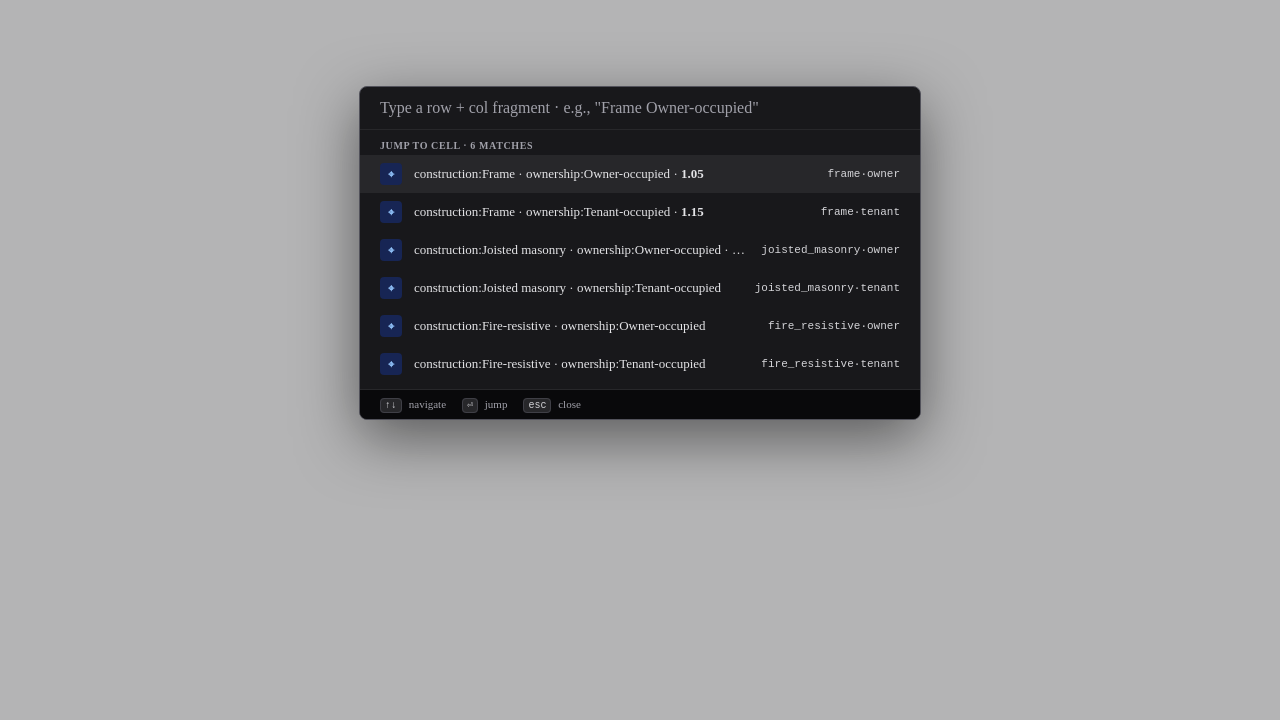
Test case: <FactorTableCmdK> matches › typing row + col fragments narrows to a single cell
This screenshot has width=1280, height=720.
In the field with test id "rater-ft-cmdk-input": {"x": 660, "y": 109} [360,87,960,130], type "joisted owner"
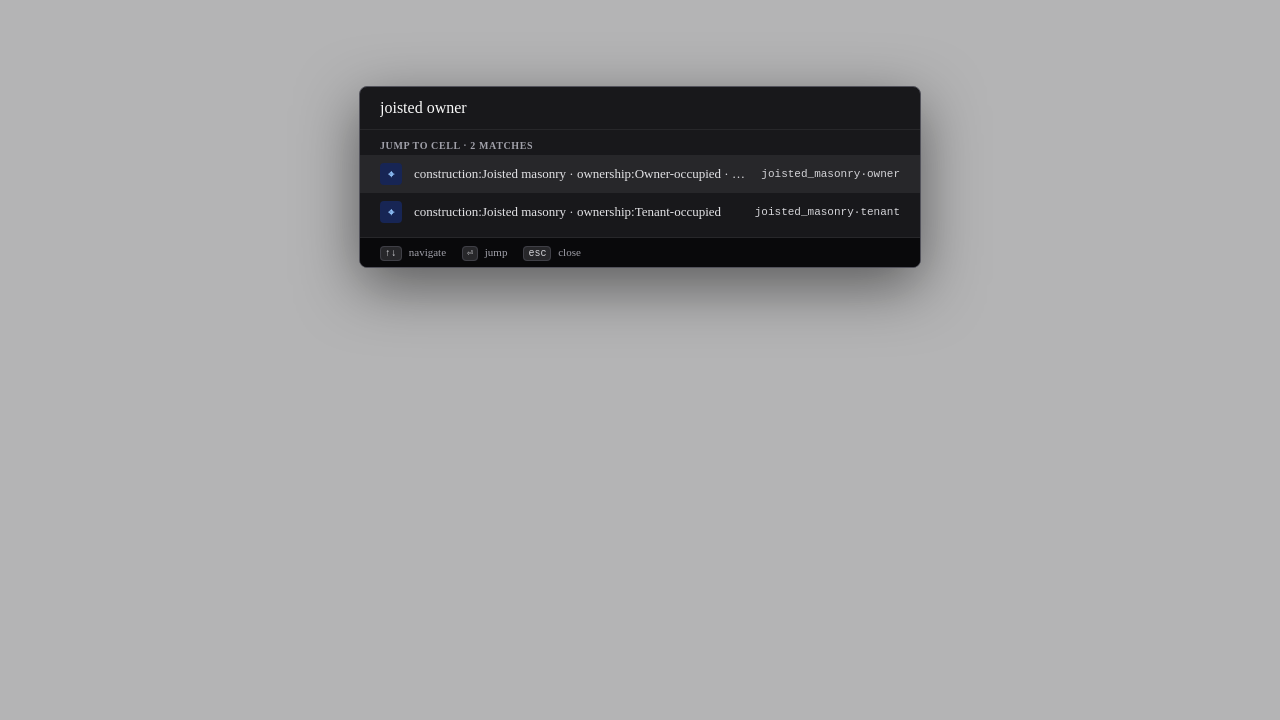
Check: the list item with test id "rater-ft-cmdk-row-joisted_masonry-owner" is shown, box [360,155,920,193]
Check: the list item with test id "rater-ft-cmdk-row-frame-owner" is gone
